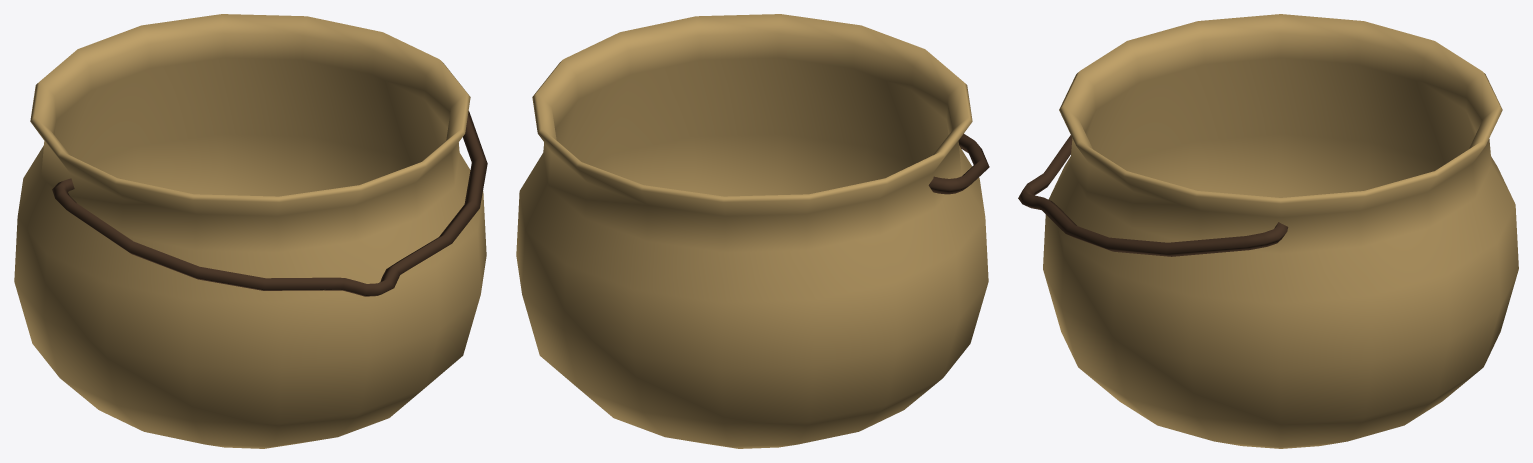
File: cauldron_empty.gltf
3 views of the same model, side by side, from view 1: azimuth 30°, elevation 25°; view 2: azimuth 150°, elevation 25°; view 3: azimuth 270°, elevation 25° (orthographic).
Visible parts, largest first — view 1: Cauldron_Empty; view 2: Cauldron_Empty; view 3: Cauldron_Empty.
Part boxes in pixels (x1=…): Cauldron_Empty: x1=14, y1=14, x2=487, y2=448; Cauldron_Empty: x1=516, y1=14, x2=989, y2=448; Cauldron_Empty: x1=1018, y1=14, x2=1518, y2=448.
Size of the model in its own units: 0.832 by 0.5948 by 0.8754.
2 materials, 2 textured.
